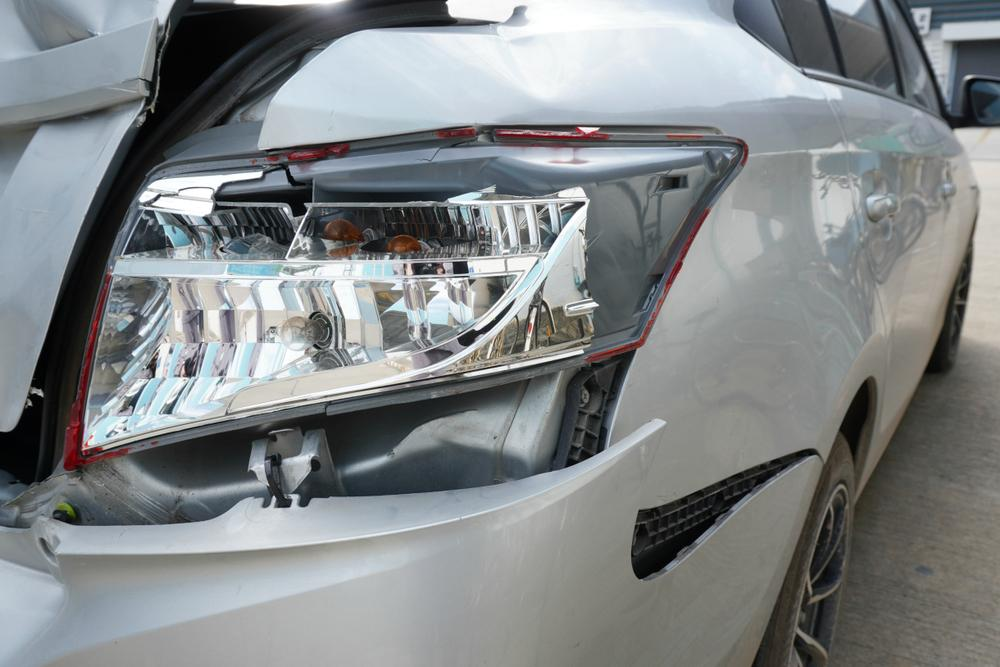dent: (444, 9, 577, 99)
lamp broken: (80, 140, 740, 457)
